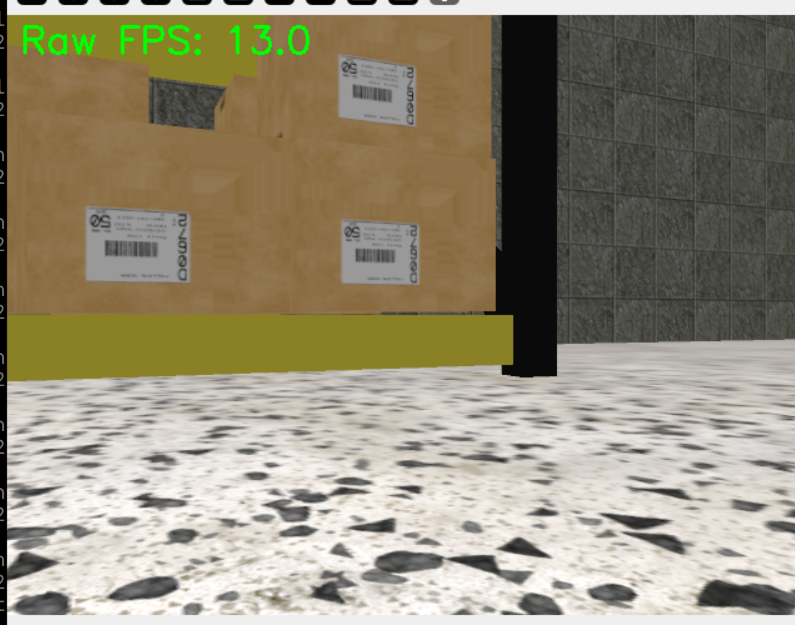barcode: (84, 206, 191, 284), (337, 53, 419, 130), (338, 217, 424, 289)
